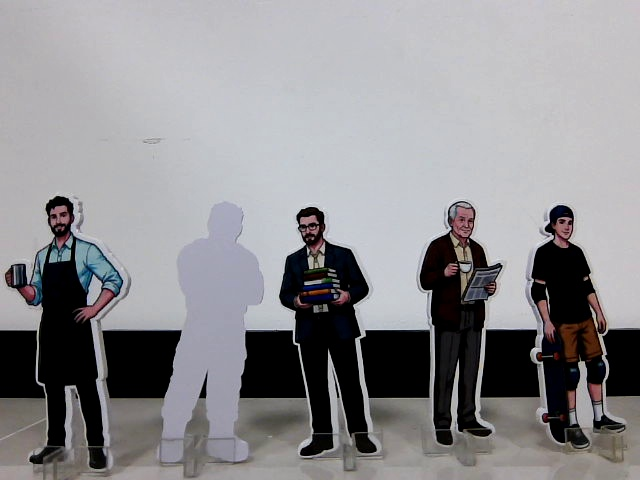community_person: (1, 189, 135, 480), (274, 199, 388, 476), (521, 197, 633, 464), (411, 194, 509, 468)
